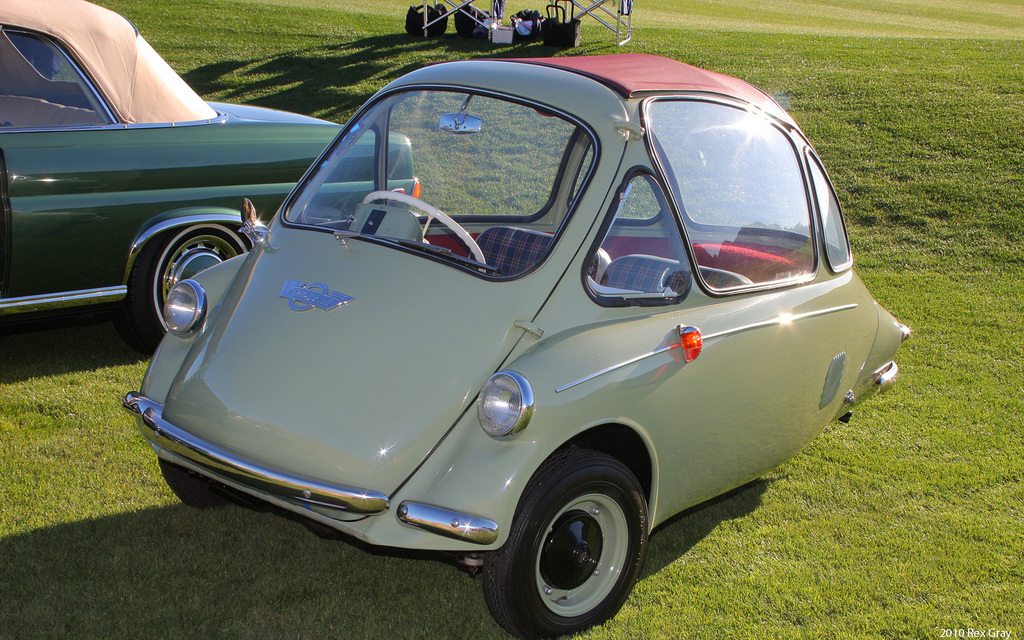Car: (124, 59, 920, 635)
